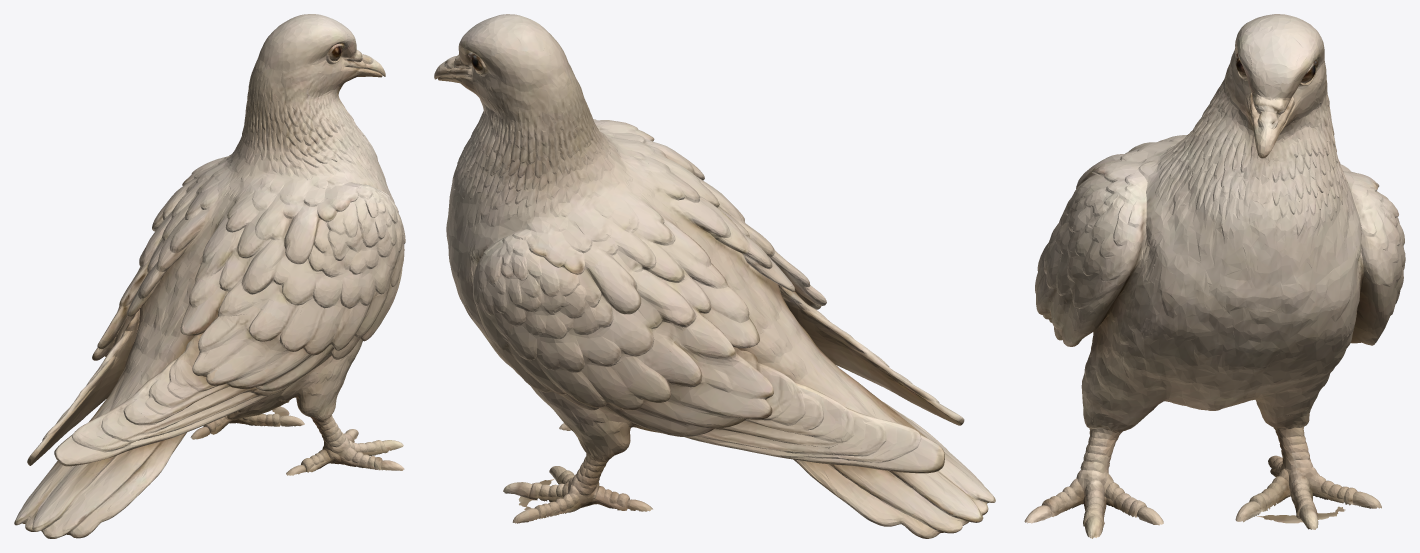
The model's file is dove-stand.glb.
3 views of the same model, side by side, from view 1: azimuth 30°, elevation 25°; view 2: azimuth 150°, elevation 25°; view 3: azimuth 270°, elevation 25° (orthographic). The views are drawn at different scales.
Parts seen in each view (by area): view 1: meshes[0]; view 2: meshes[0]; view 3: meshes[0].
Part boxes in pixels (<box>): meshes[0]: <box>14,14,405,538</box>; meshes[0]: <box>434,14,995,538</box>; meshes[0]: <box>1024,14,1405,538</box>.
Bounding box in the file's own units: 0.4039 × 0.3597 × 0.2412.
Materials: 1 (1 with a texture image).
